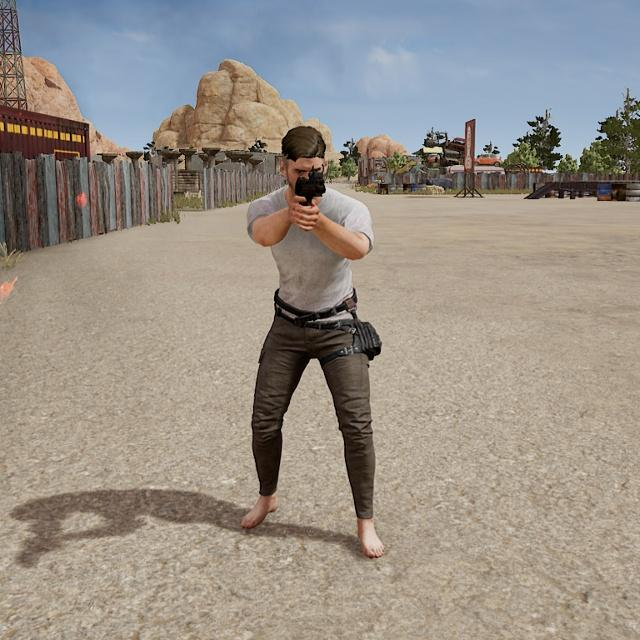head: (274, 120, 335, 197)
people: (220, 116, 409, 569)
